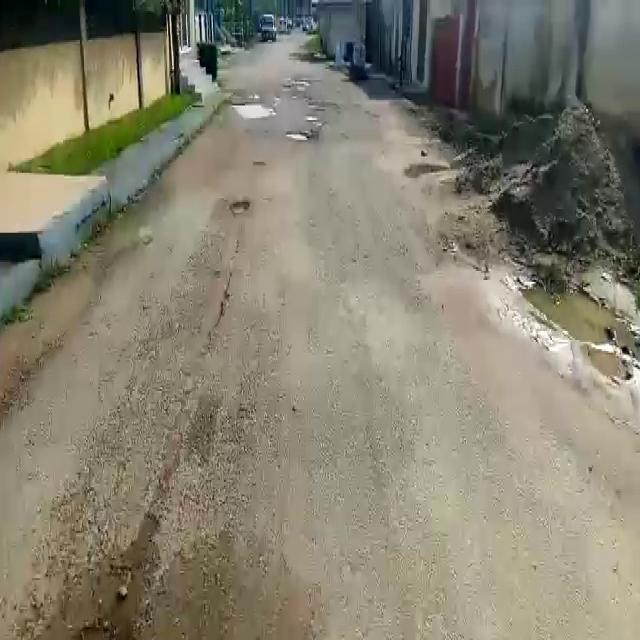Pothole: (231, 100, 277, 118), (228, 199, 252, 217), (288, 128, 316, 141)
